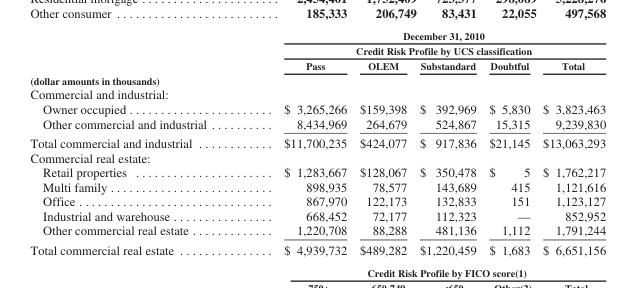table: (29, 29, 605, 256)
table column: (29, 29, 244, 256), (244, 29, 352, 256), (412, 29, 482, 256), (535, 29, 605, 256), (352, 29, 412, 256), (482, 29, 535, 256)
table column header: (29, 29, 605, 72)
table projected row header: (29, 86, 605, 101), (29, 72, 605, 86), (29, 150, 605, 164)
table row: (29, 29, 605, 57), (29, 115, 605, 133), (29, 133, 605, 150), (29, 222, 605, 239), (29, 239, 605, 256), (29, 57, 605, 72), (29, 86, 605, 101), (29, 164, 605, 179), (29, 193, 605, 208), (29, 72, 605, 86), (29, 101, 605, 115), (29, 150, 605, 164), (29, 179, 605, 193), (29, 208, 605, 222)
table spanning cell: (244, 29, 605, 57)
